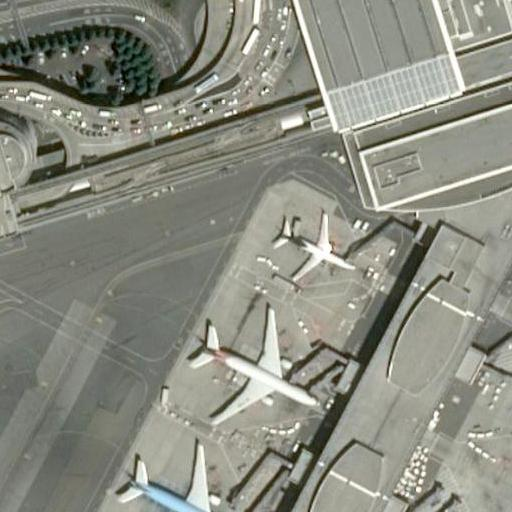Aircraft: (179, 304, 320, 425), (110, 429, 252, 512), (265, 196, 358, 283)
